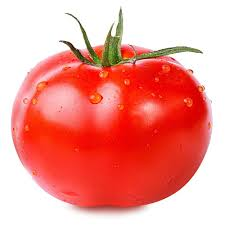tomate: (20, 29, 210, 209)
